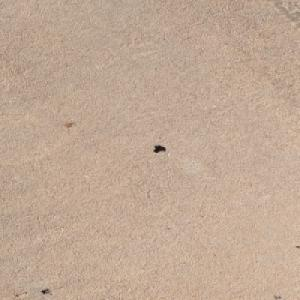BoltWasher: (152, 145, 163, 152)
